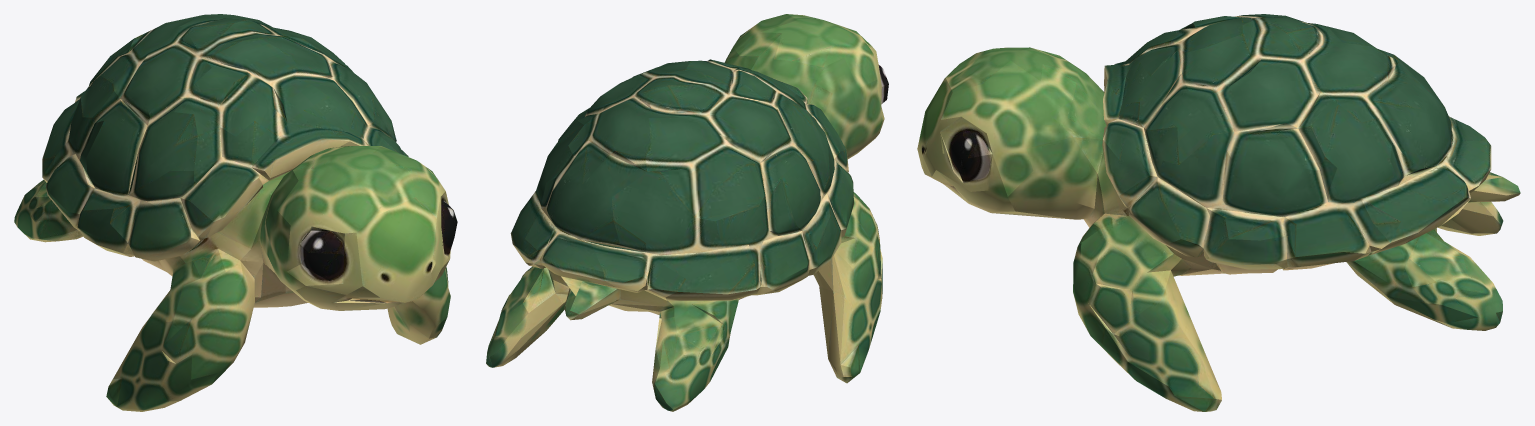
Rendered from toy-turtle.glb.
3 views of the same model, side by side, from view 1: azimuth 30°, elevation 25°; view 2: azimuth 150°, elevation 25°; view 3: azimuth 270°, elevation 25° (orthographic). The views are drawn at different scales.
Parts seen in each view (by area): view 1: Prize_Batch0; view 2: Prize_Batch0; view 3: Prize_Batch0.
Part boxes in pixels (x1,y1,x2,y2): Prize_Batch0: [14, 14, 457, 411]; Prize_Batch0: [486, 14, 888, 411]; Prize_Batch0: [917, 14, 1520, 411].
Size of the model in its own units: 0.0187 by 0.0184 by 0.032.
Materials: 1 (1 with a texture image).
